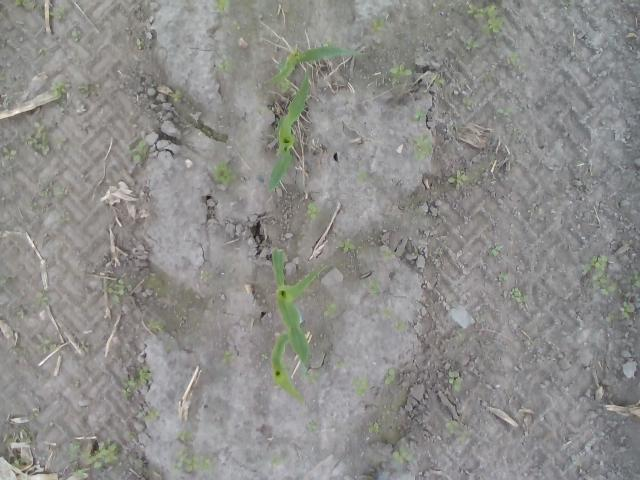Maize: (270, 247, 320, 370), (266, 71, 310, 190), (270, 44, 368, 80), (270, 331, 308, 406)
Weeds: (581, 253, 623, 296), (466, 1, 505, 33), (170, 448, 212, 474), (90, 438, 122, 472), (121, 367, 152, 401), (22, 121, 51, 156), (68, 439, 90, 480), (383, 64, 418, 88), (212, 159, 240, 188), (447, 170, 481, 192), (446, 419, 472, 445), (106, 278, 128, 304), (49, 80, 66, 113), (127, 134, 147, 162), (414, 134, 432, 161), (350, 376, 370, 398), (502, 52, 526, 70), (392, 446, 416, 464), (622, 288, 635, 321), (8, 425, 33, 442), (214, 59, 239, 74), (136, 408, 160, 423), (448, 368, 463, 392), (304, 200, 320, 222), (146, 318, 168, 333), (301, 368, 319, 385), (36, 338, 57, 352), (510, 287, 528, 303), (337, 238, 356, 253), (367, 277, 382, 296), (494, 107, 514, 120), (390, 320, 410, 333), (214, 0, 230, 15), (378, 246, 398, 258), (462, 35, 480, 48), (322, 303, 337, 318), (168, 89, 184, 103), (370, 18, 386, 32), (175, 430, 193, 442), (2, 147, 17, 161), (629, 270, 640, 288), (38, 184, 52, 198), (384, 368, 396, 384), (50, 6, 66, 18), (14, 0, 33, 10), (367, 422, 382, 434), (489, 244, 504, 256), (0, 274, 17, 284), (462, 95, 479, 105), (36, 292, 49, 305), (357, 170, 369, 184), (78, 340, 90, 354), (383, 308, 398, 319), (558, 0, 576, 9), (232, 16, 242, 32), (15, 306, 26, 320), (70, 30, 82, 42), (306, 420, 318, 432), (270, 455, 284, 465), (453, 329, 464, 341), (497, 271, 510, 281), (144, 272, 157, 282), (606, 312, 618, 322), (199, 270, 209, 282), (10, 458, 23, 467), (435, 78, 448, 87), (30, 408, 40, 419), (54, 136, 66, 145), (136, 38, 145, 50), (39, 48, 50, 57), (224, 352, 232, 364), (68, 380, 80, 388), (335, 359, 345, 368), (127, 430, 138, 438), (416, 112, 426, 120), (80, 84, 86, 96), (0, 70, 5, 82), (38, 426, 48, 432)
